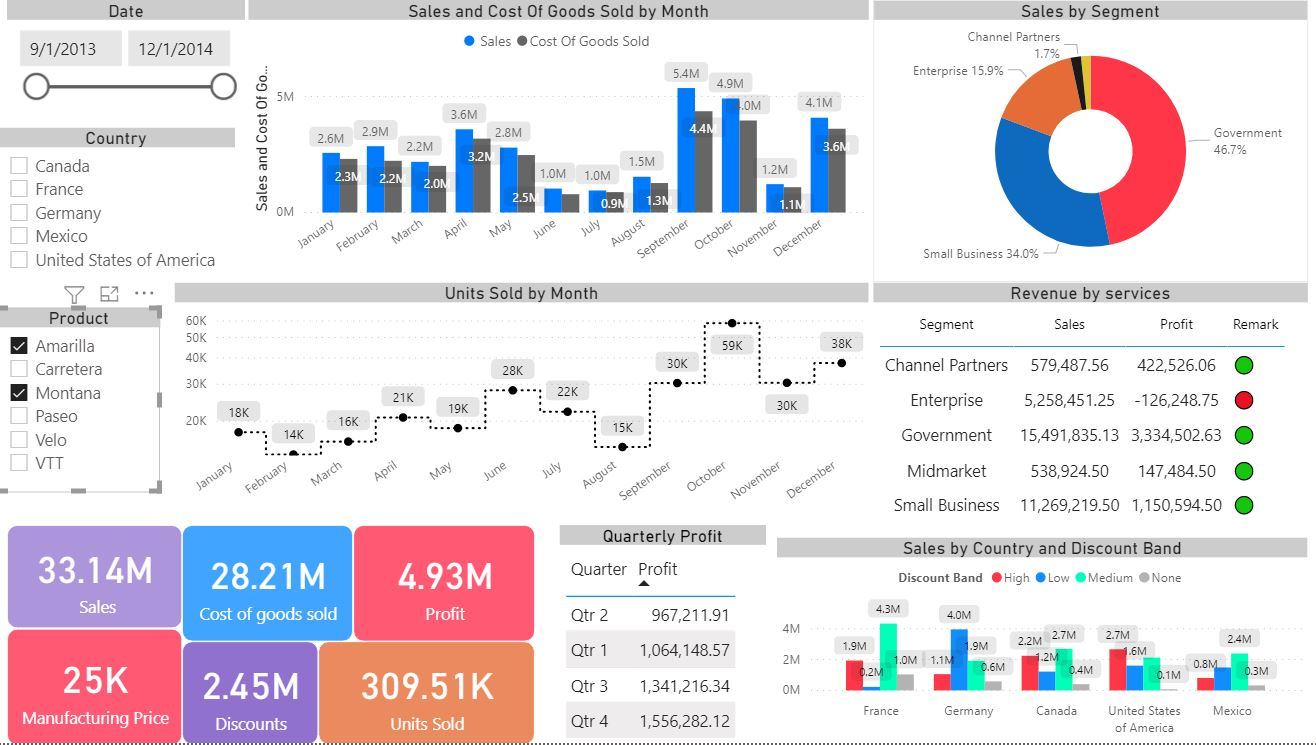

The dashboard page shown, as its layout file describes it:
{"tool":"powerbi","page":{"name":"Page 1","canvas":[1280,720],"ordinal":0},"visuals":[{"type":"slicer","title":"Date","fields":{"Values":["financials.Date"]},"box":[9.6,0,230.7,109.9],"z":0},{"type":"clusteredColumnChart","fields":{"Y":["Sum(financials. Sales)","Sum(financials.COGS)"],"Category":["financials.Date.Variation.Date Hierarchy.Month"]},"box":[243,0,601.1,273.5],"z":1000},{"type":"donutChart","fields":{"Y":["Sum(financials. Sales)"],"Category":["financials.Segment"]},"box":[848.2,0,420.7,273.5],"z":2000},{"type":"slicer","title":"Country","fields":{"Values":["financials.Country"]},"box":[0,123.6,230.5,149.9],"z":3000},{"type":"tableEx","title":"Revenue by services","fields":{"Values":["financials.Segment","Sum(financials. Sales)","Sum(financials.Profit)","financials.Remark@#"]},"box":[848.2,273.5,420.7,244.3],"z":4000},{"type":"lineChart","fields":{"Category":["financials.Date.Variation.Date Hierarchy.Month"],"Y":["Sum(financials.Units Sold)"]},"box":[172.1,273.5,671.9,234.6],"z":5000},{"type":"slicer","title":"Product","fields":{"Values":["financials.Product"]},"box":[0,297.1,158.3,179.1],"z":6000},{"type":"card","fields":{"Values":["Sum(financials. Sales)"]},"box":[9.7,508.1,169.4,100],"z":6001},{"type":"card","fields":{"Values":["Sum(financials.COGS)"]},"box":[179.1,508.1,165.2,112.5],"z":6002},{"type":"card","fields":{"Values":["Sum(financials.Manufacturing Price)"]},"box":[9.7,608.1,169.4,112.5],"z":6003},{"type":"card","fields":{"Values":["Sum(financials.Profit)"]},"box":[344.3,508.1,176.3,112.5],"z":6004},{"type":"card","fields":{"Values":["Sum(financials.Units Sold)"]},"box":[311,620.6,209.6,100],"z":6005},{"type":"card","fields":{"Values":["Sum(financials.Discounts)"]},"box":[179.1,620.6,131.9,100],"z":6006},{"type":"tableEx","title":"Quarterly Profit","fields":{"Values":["financials.Date.Variation.Date Hierarchy.Quarter","Sum(financials.Profit)"]},"box":[544.2,508.1,199.9,212.4],"z":6007},{"type":"clusteredColumnChart","fields":{"Category":["financials.Country"],"Y":["Sum(financials. Sales)"],"Series":["financials.Discount Band"]},"box":[755.2,520.6,513.7,199.9],"z":6008}]}

Visuals, with their boxes in screenshot pixels (x1, y1, x2, y2), scaled from the page's 1280x720 canvas onto the 1316x745 screenshot:
"Date" slicer: x1=10 y1=0 x2=247 y2=114
clusteredColumnChart - Sum(financials. Sales) x Sum(financials.COGS): x1=250 y1=0 x2=868 y2=283
donutChart - Sum(financials. Sales) x financials.Segment: x1=872 y1=0 x2=1305 y2=283
"Country" slicer: x1=0 y1=128 x2=237 y2=283
"Revenue by services" tableEx: x1=872 y1=283 x2=1305 y2=536
lineChart - financials.Date.Variation.Date Hierarchy.Month x Sum(financials.Units Sold): x1=177 y1=283 x2=868 y2=526
"Product" slicer: x1=0 y1=307 x2=163 y2=493
card - Sum(financials. Sales): x1=10 y1=526 x2=184 y2=629
card - Sum(financials.COGS): x1=184 y1=526 x2=354 y2=642
card - Sum(financials.Manufacturing Price): x1=10 y1=629 x2=184 y2=744
card - Sum(financials.Profit): x1=354 y1=526 x2=535 y2=642
card - Sum(financials.Units Sold): x1=320 y1=642 x2=535 y2=744
card - Sum(financials.Discounts): x1=184 y1=642 x2=320 y2=744
"Quarterly Profit" tableEx: x1=560 y1=526 x2=765 y2=744
clusteredColumnChart - financials.Country x Sum(financials. Sales): x1=776 y1=539 x2=1305 y2=744
